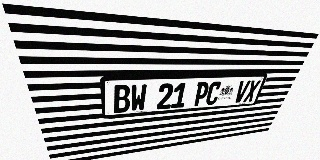1: (171, 82, 188, 108)
2: (157, 83, 174, 109)
B: (113, 84, 130, 113)
C: (204, 81, 222, 105)
P: (192, 82, 210, 106)
V: (233, 80, 251, 103)
W: (130, 84, 147, 112)
X: (243, 80, 261, 102)
